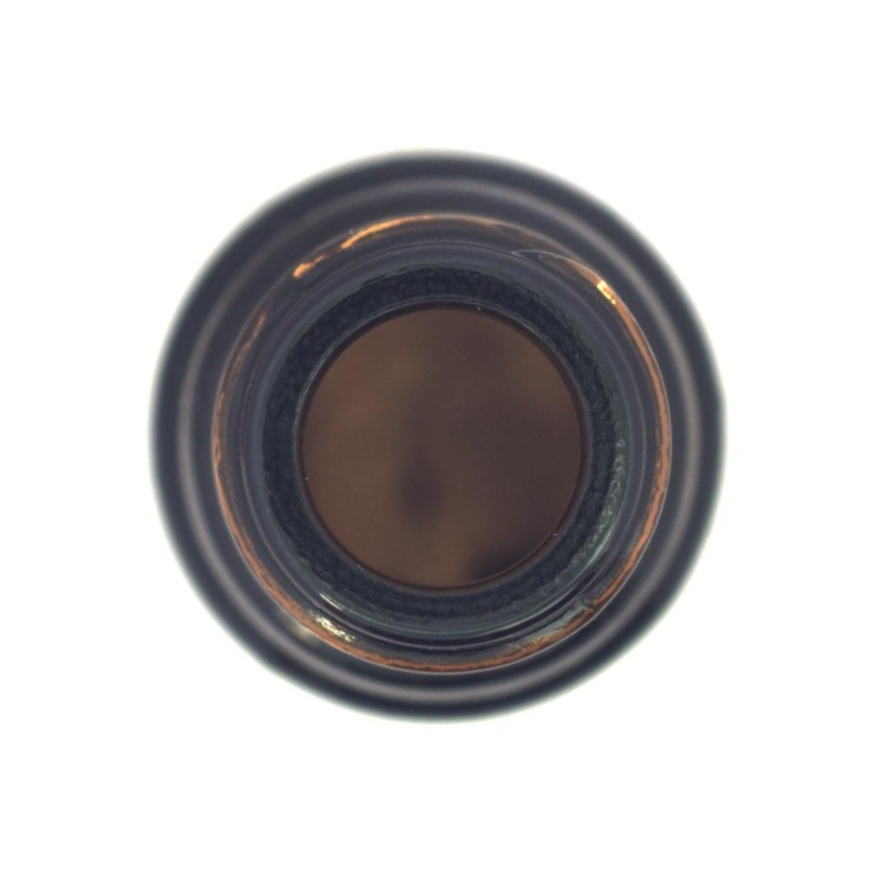bad-contamination: (45, 39, 835, 829)
